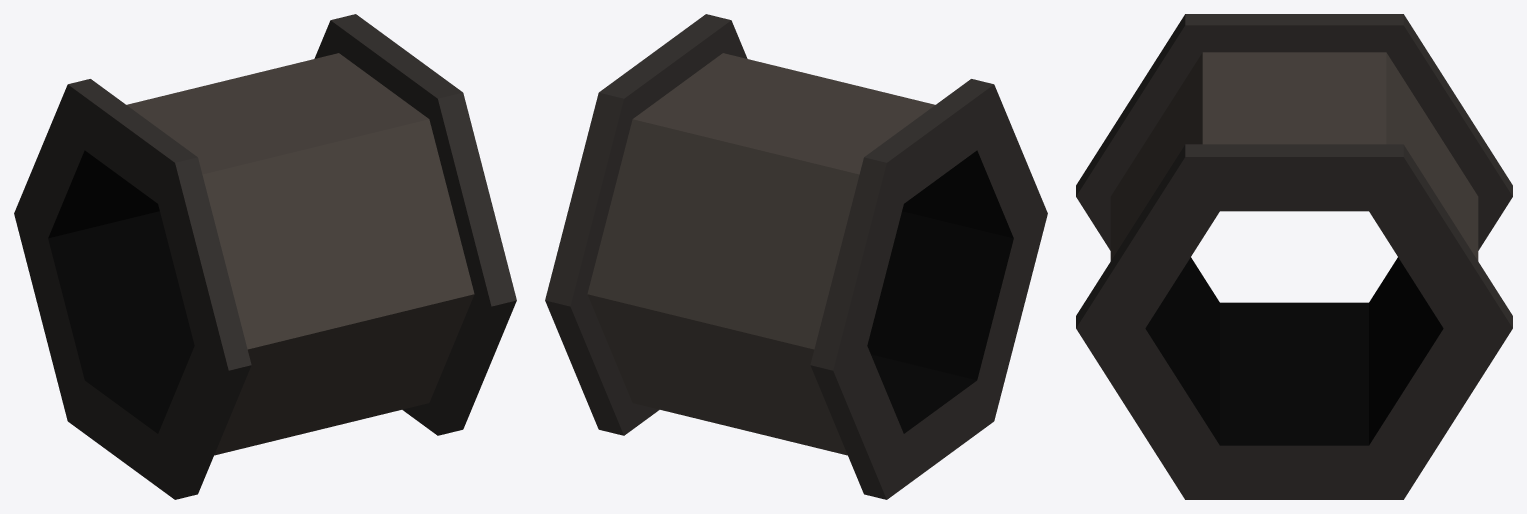
The model's file is pipe_1.gltf.
3 views of the same model, side by side, from view 1: azimuth 30°, elevation 25°; view 2: azimuth 150°, elevation 25°; view 3: azimuth 270°, elevation 25° (orthographic).
Parts seen in each view (by area): view 1: tube; view 2: tube; view 3: tube.
Boxes of the visible parts, x1=… form: tube: x1=14, y1=14, x2=516, y2=499; tube: x1=545, y1=14, x2=1047, y2=499; tube: x1=1076, y1=14, x2=1512, y2=499.
Bounding box in the file's own units: 1.06 × 1.19 × 1.37.
Materials: 1 (1 with a texture image).
